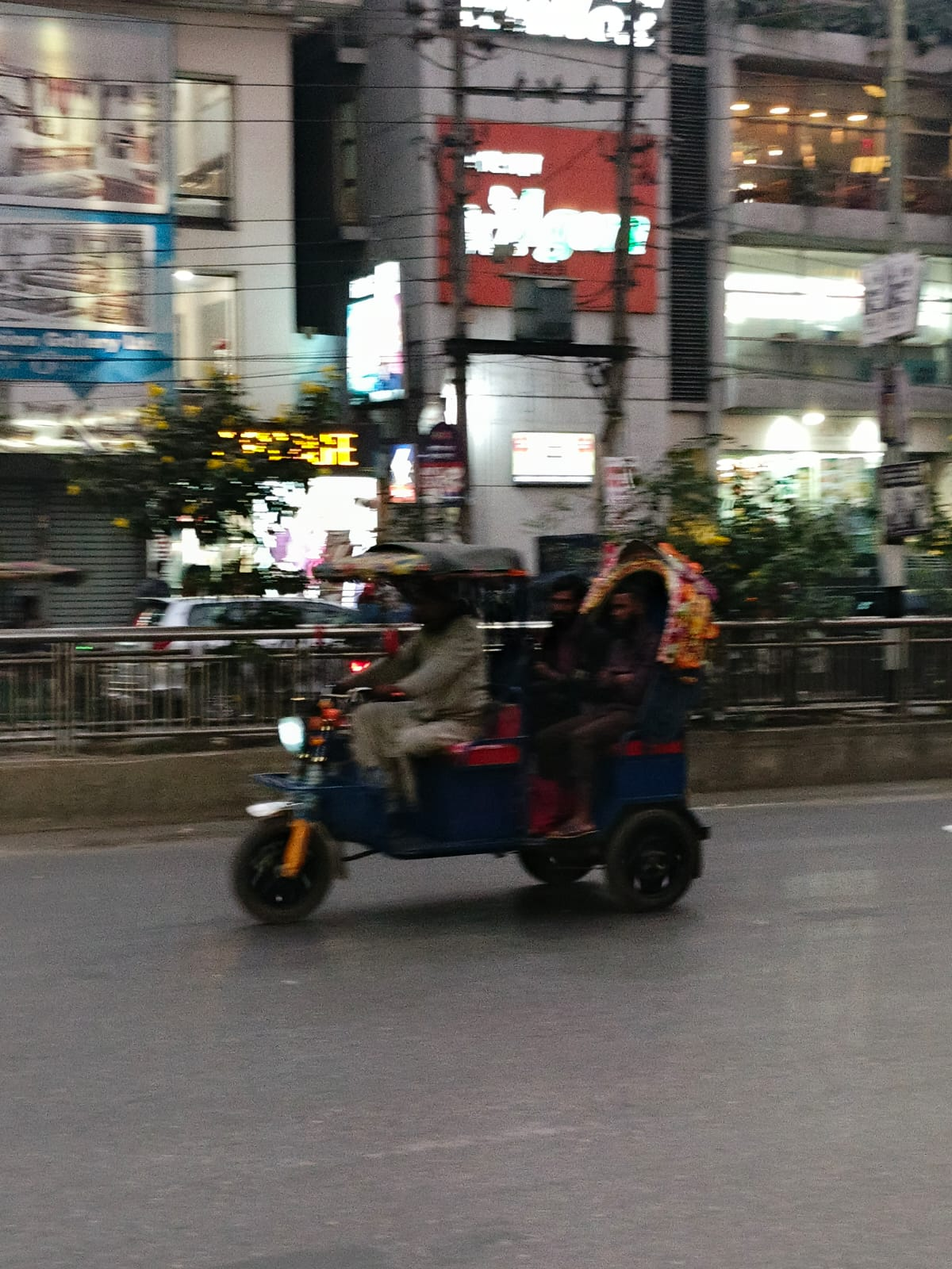auto-ricksaw: (230, 461, 772, 953), (0, 532, 104, 718)
private car: (148, 566, 419, 701)
